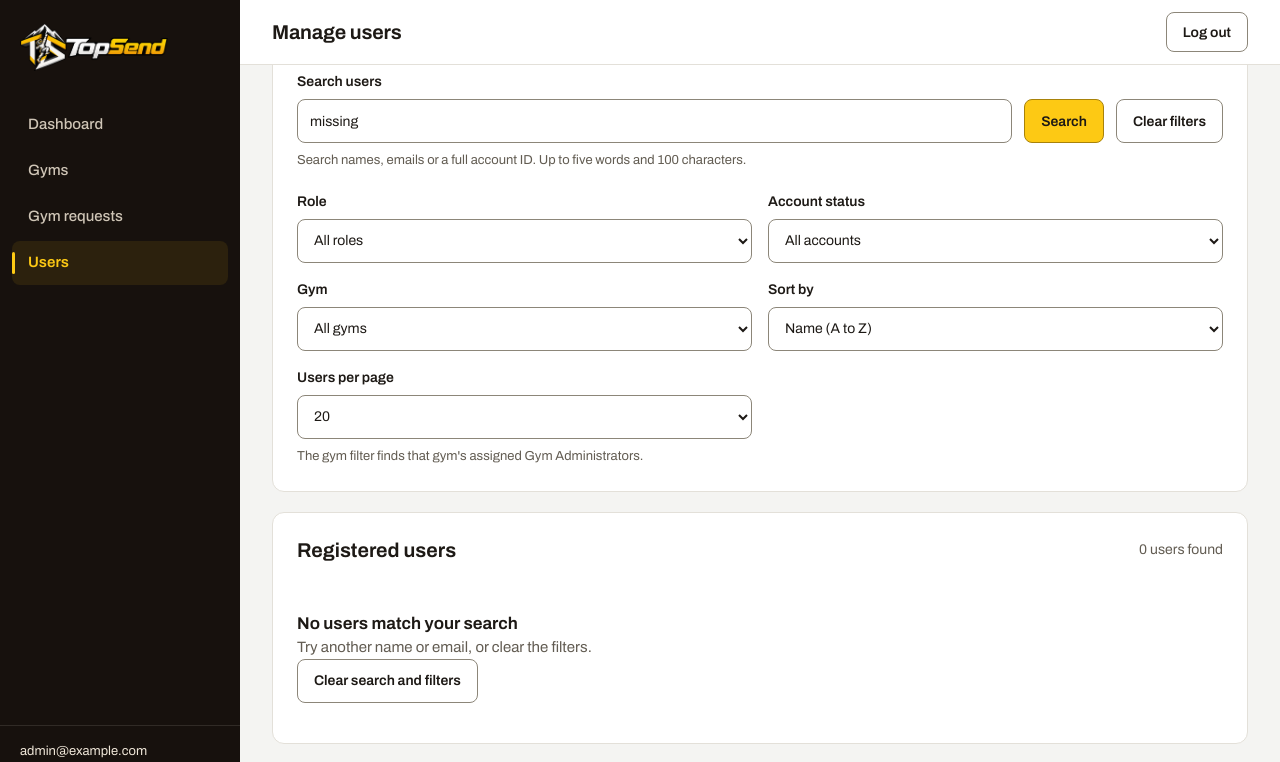
Test: US-008 / #146 user list and #147 supported search controls › shows a no-results message and lets the Admin clear filters
(page scrolled)
Expected: the heading "No users match your search" is shown, [297,614,518,633]
Click the button "Clear search and filters" at (387, 681), box [297,659,478,703]
(page scrolled)
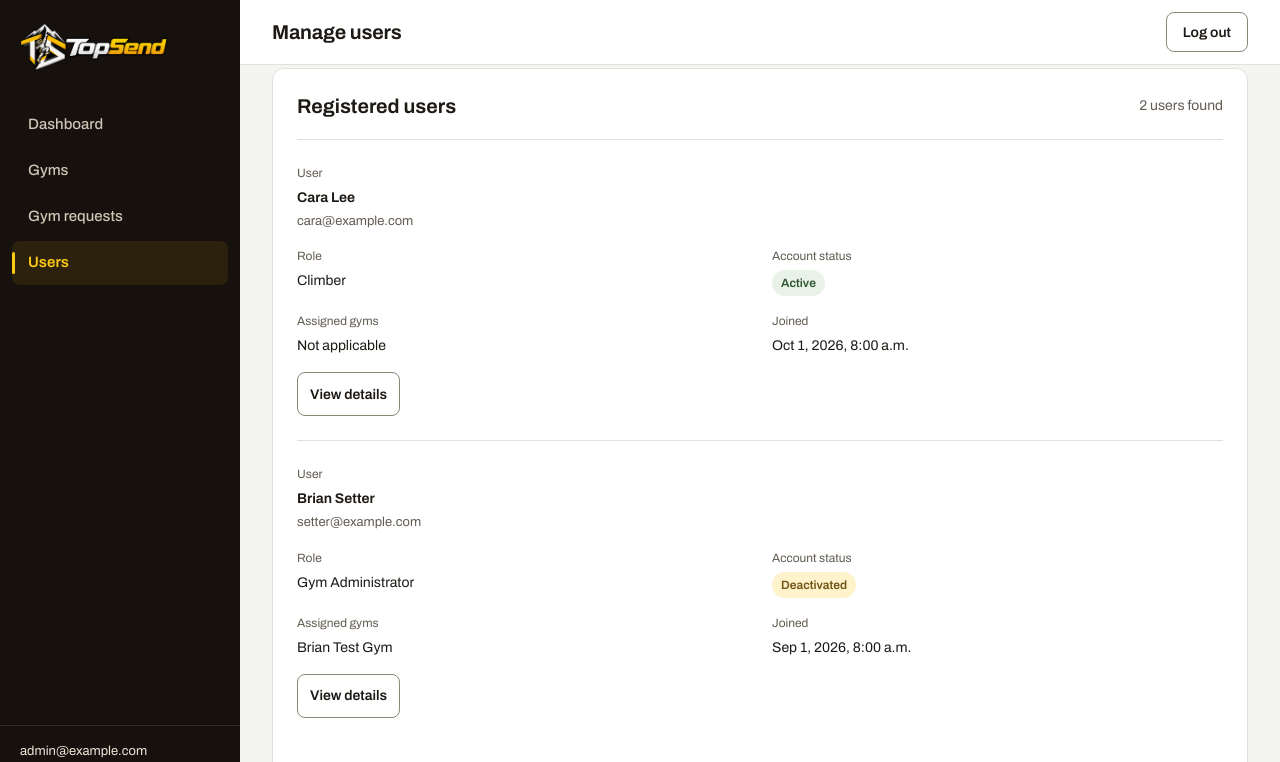
Now the table is shown, box [297,139,1223,742]
